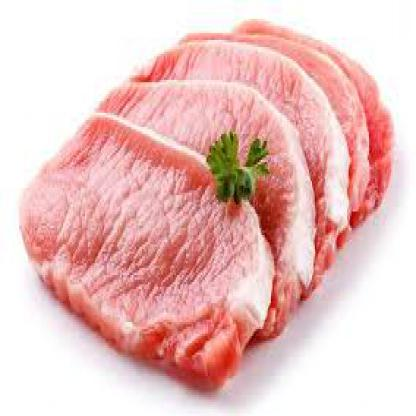pork: (19, 49, 394, 369), (32, 127, 264, 392)
